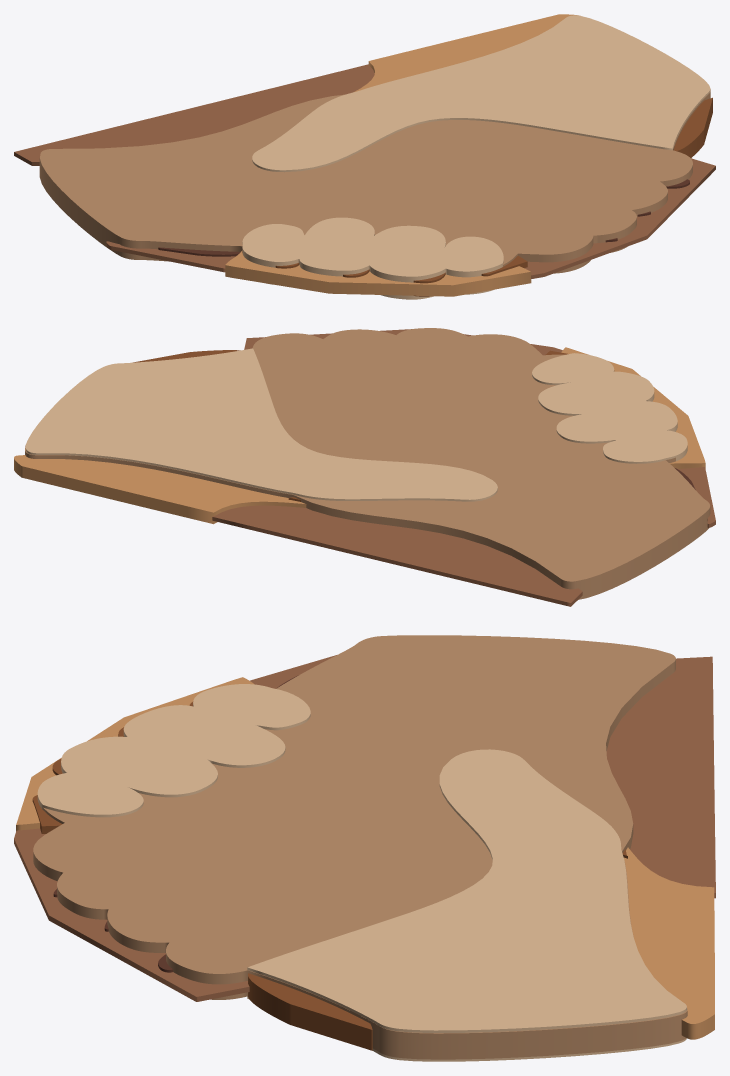
Rendered from emoji_u1faf1_1f3fd_200d_1faf2_1f3fc.glb.
The picture shows the model from 3 angles, top to bottom: view 1: azimuth 30°, elevation 25°; view 2: azimuth 150°, elevation 25°; view 3: azimuth 270°, elevation 25°; orthographic projection. The views are drawn at different scales.
Parts seen in each view (by area): view 1: emoji_u1faf1_1f3fd_200d_1faf2_1f3fc; view 2: emoji_u1faf1_1f3fd_200d_1faf2_1f3fc; view 3: emoji_u1faf1_1f3fd_200d_1faf2_1f3fc.
Part boxes in pixels (x1=…): emoji_u1faf1_1f3fd_200d_1faf2_1f3fc: x1=14, y1=14, x2=715, y2=299; emoji_u1faf1_1f3fd_200d_1faf2_1f3fc: x1=14, y1=328, x2=715, y2=606; emoji_u1faf1_1f3fd_200d_1faf2_1f3fc: x1=14, y1=635, x2=715, y2=1061.
Size of the model in its own units: 0.0332 by 0.0012 by 0.0244.
